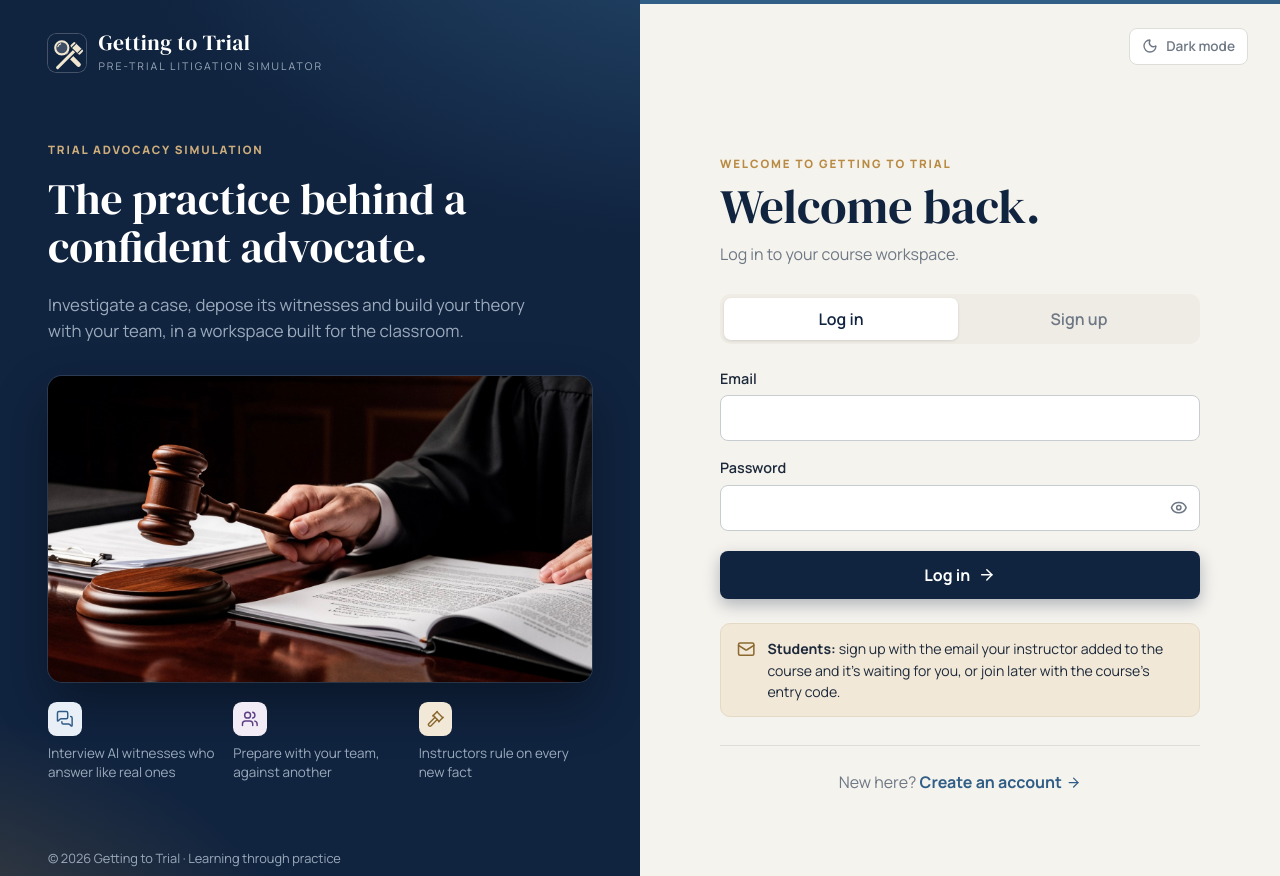
it: sign up › shows the sign-up fields with Student selected by default
Expected: the heading "Welcome back." is shown, x1=720 y1=173 x2=1040 y2=239
Click the tab "Sign up" at (1079, 319), box x1=962 y1=298 x2=1196 y2=340
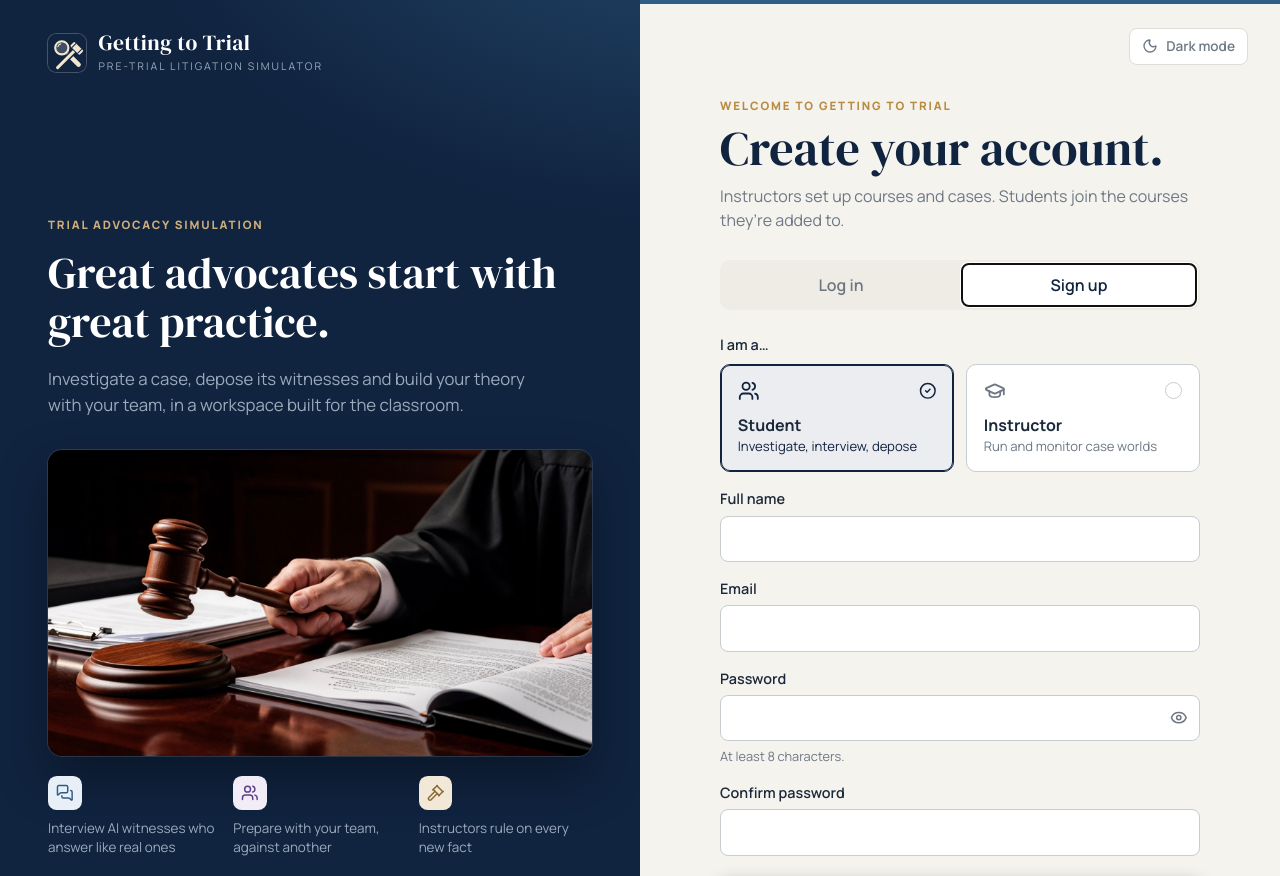
Now the field labelled "Full name" is shown, box x1=720 y1=516 x2=1200 y2=562
Now the password field labelled "Confirm password" is shown, box x1=720 y1=809 x2=1200 y2=856
Now the radio button labelled "Student Investigate, interview, depose" is checked, box x1=720 y1=364 x2=954 y2=472
